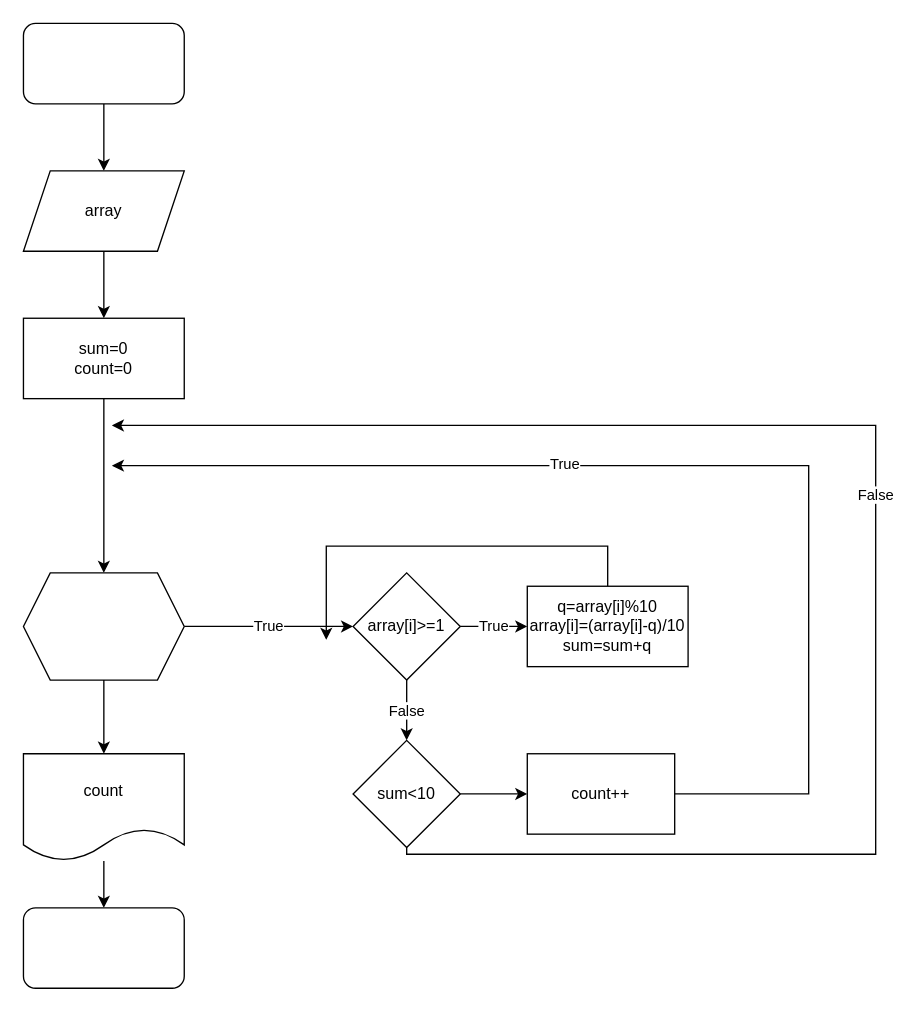
Some shapes in this 917 by 1012 pixel diagram are drawn without their labels. Each missing label, with the centre of its shape:
"end" belongs at point 103,947.
"i=0,i<array.length,i++" belongs at point 103,626.
"Start" belongs at point 103,63.
